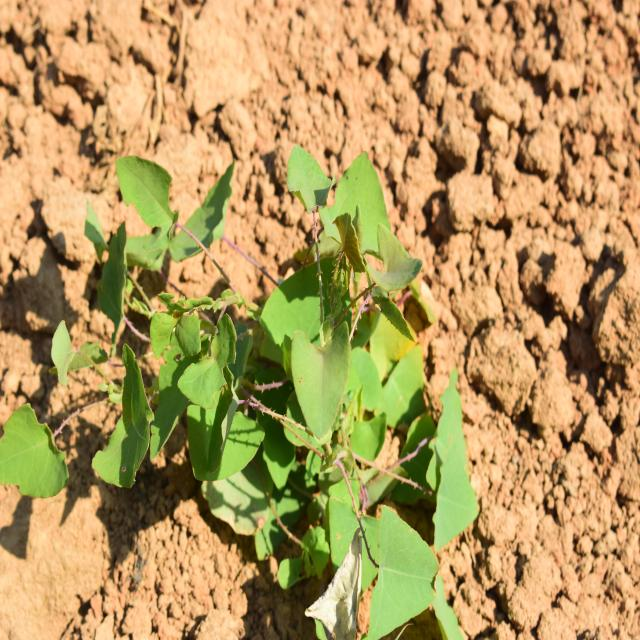Asiatic_Smartweed: (274, 142, 414, 446), (97, 302, 285, 500), (359, 376, 476, 626), (87, 150, 245, 299)
